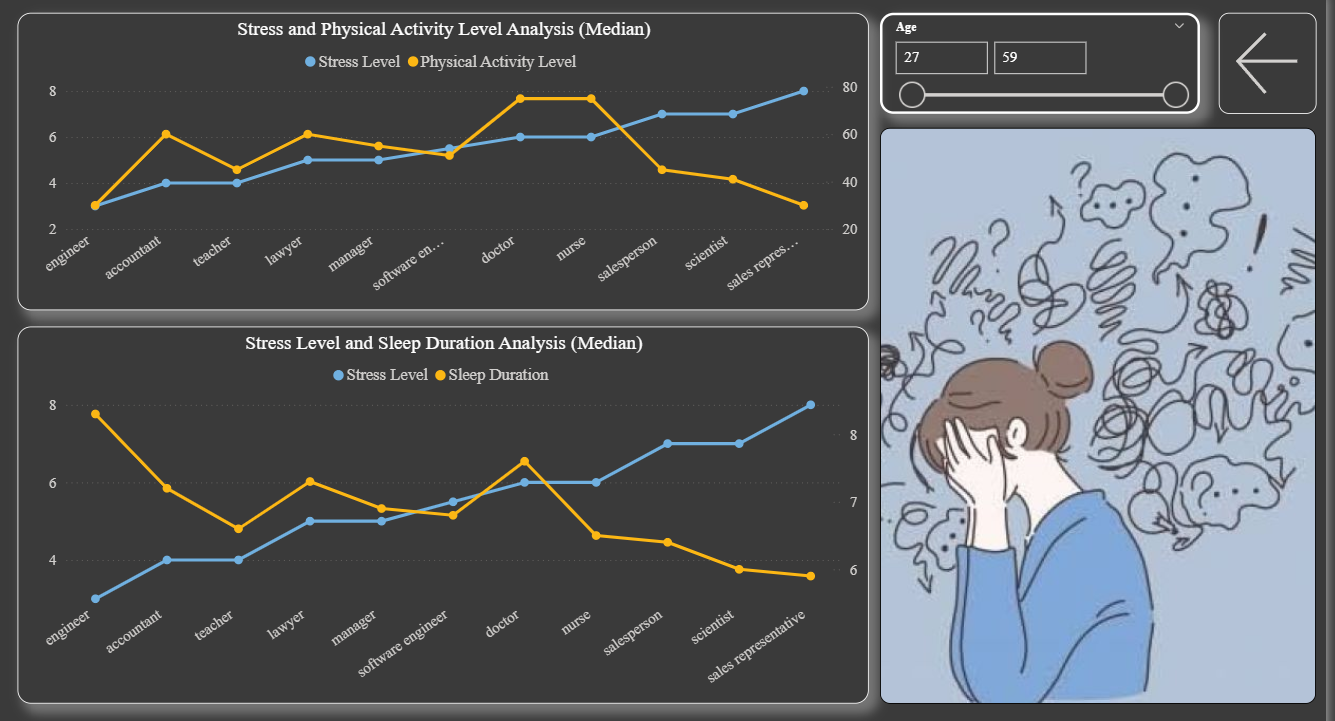

The dashboard page shown, as its layout file describes it:
{"tool":"powerbi","page":{"name":"Page 4","canvas":[1280,720],"ordinal":3},"visuals":[{"type":"lineChart","title":"Stress and Physical Activity Level Analysis (Median)","fields":{"Category":["Sleep_health_and_lifestyle_dataset.occupation"],"Y":["Median(Sleep_health_and_lifestyle_dataset.stress level)"],"Y2":["Median(Sleep_health_and_lifestyle_dataset.physical activity level)"]},"box":[16.9,18.1,821.6,287.1],"z":0},{"type":"lineChart","title":"Stress Level and Sleep Duration Analysis (Median)","fields":{"Category":["Sleep_health_and_lifestyle_dataset.occupation"],"Y":["Median(Sleep_health_and_lifestyle_dataset.stress level)"],"Y2":["Median(Sleep_health_and_lifestyle_dataset.sleep duration)"]},"box":[16.9,320.9,821.6,364.3],"z":1000},{"type":"slicer","fields":{"Values":["Sleep_health_and_lifestyle_dataset.age"]},"box":[849.3,18.1,308.8,97.7],"z":2000},{"type":"image","box":[849.3,129.1,421,556.2],"z":3000},{"type":"actionButton","box":[1176.3,18.1,94.1,97.7],"z":4000}]}

Visuals, with their boxes in screenshot pixels (x1, y1, x2, y2):
"Stress and Physical Activity Level Analysis (Median)" lineChart: 28,15,867,308
"Stress Level and Sleep Duration Analysis (Median)" lineChart: 28,324,867,697
slicer - Sleep_health_and_lifestyle_dataset.age: 878,15,1194,115
image: 878,128,1309,697
actionButton: 1213,15,1309,115
